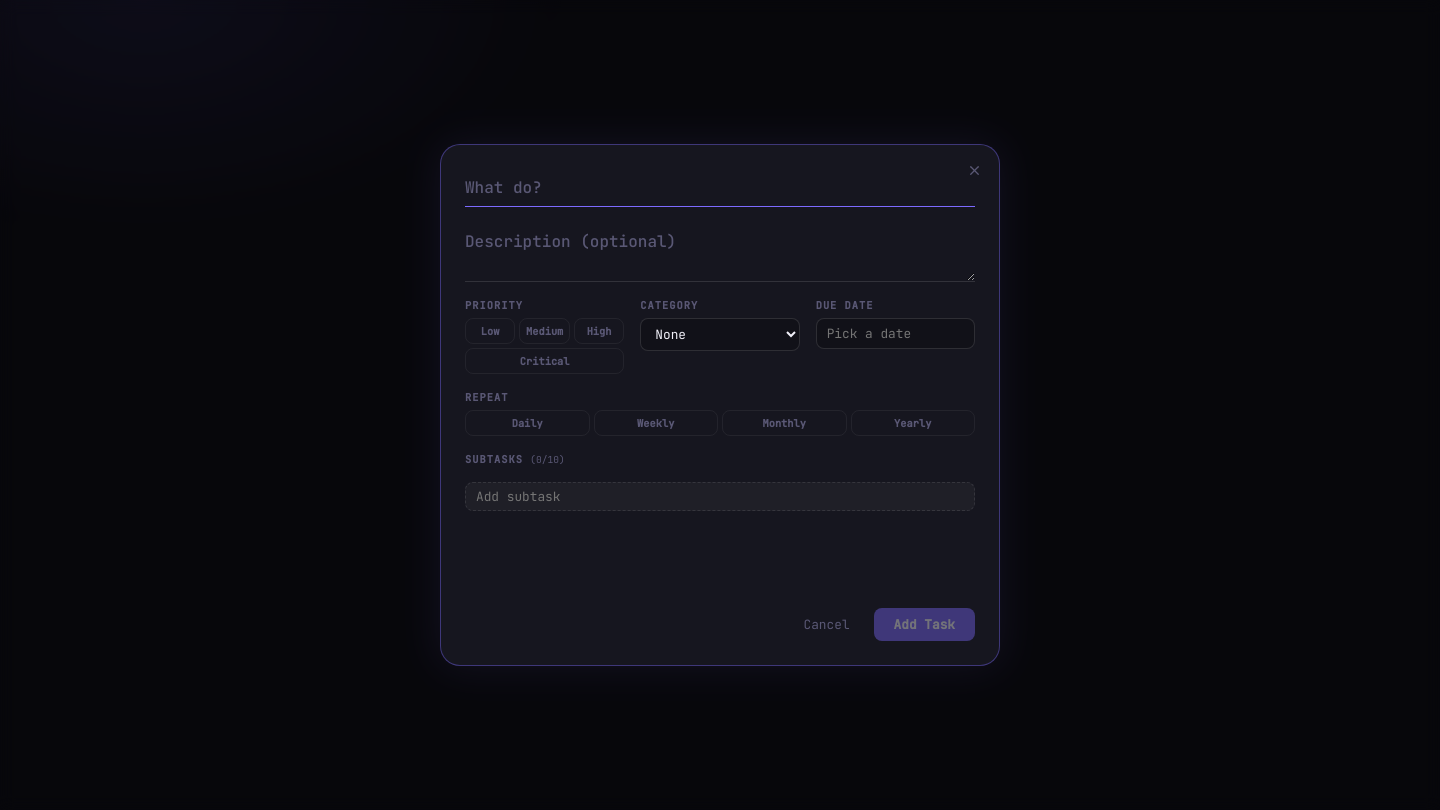
Test: AddTask › shows limit error from API
The width and height of the screenshot is (1440, 810).
In the field with placeholder "What do?": (720, 188) [465,169,975,207], type "X"
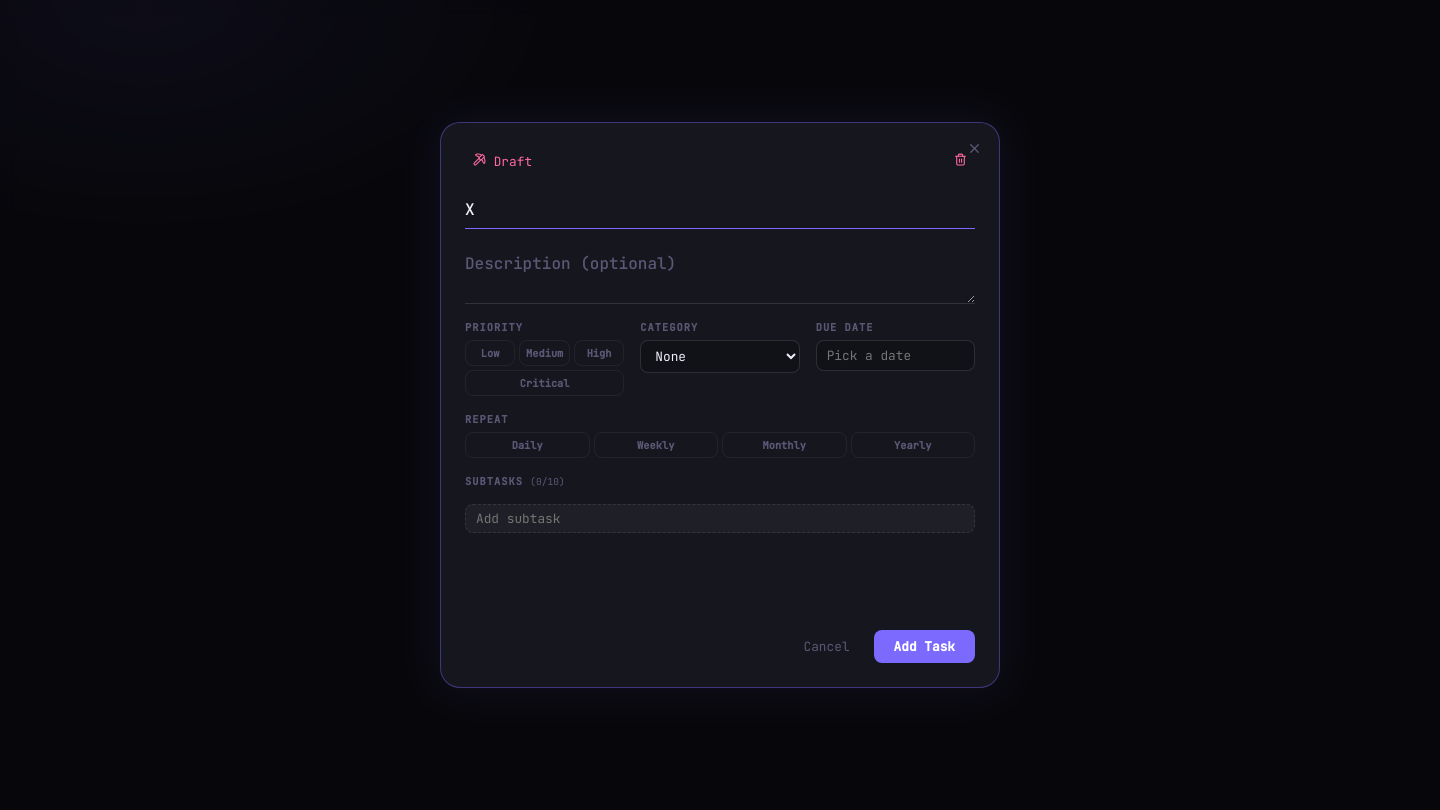
Click the button "Add Task": (924, 646) [874,630,975,663]
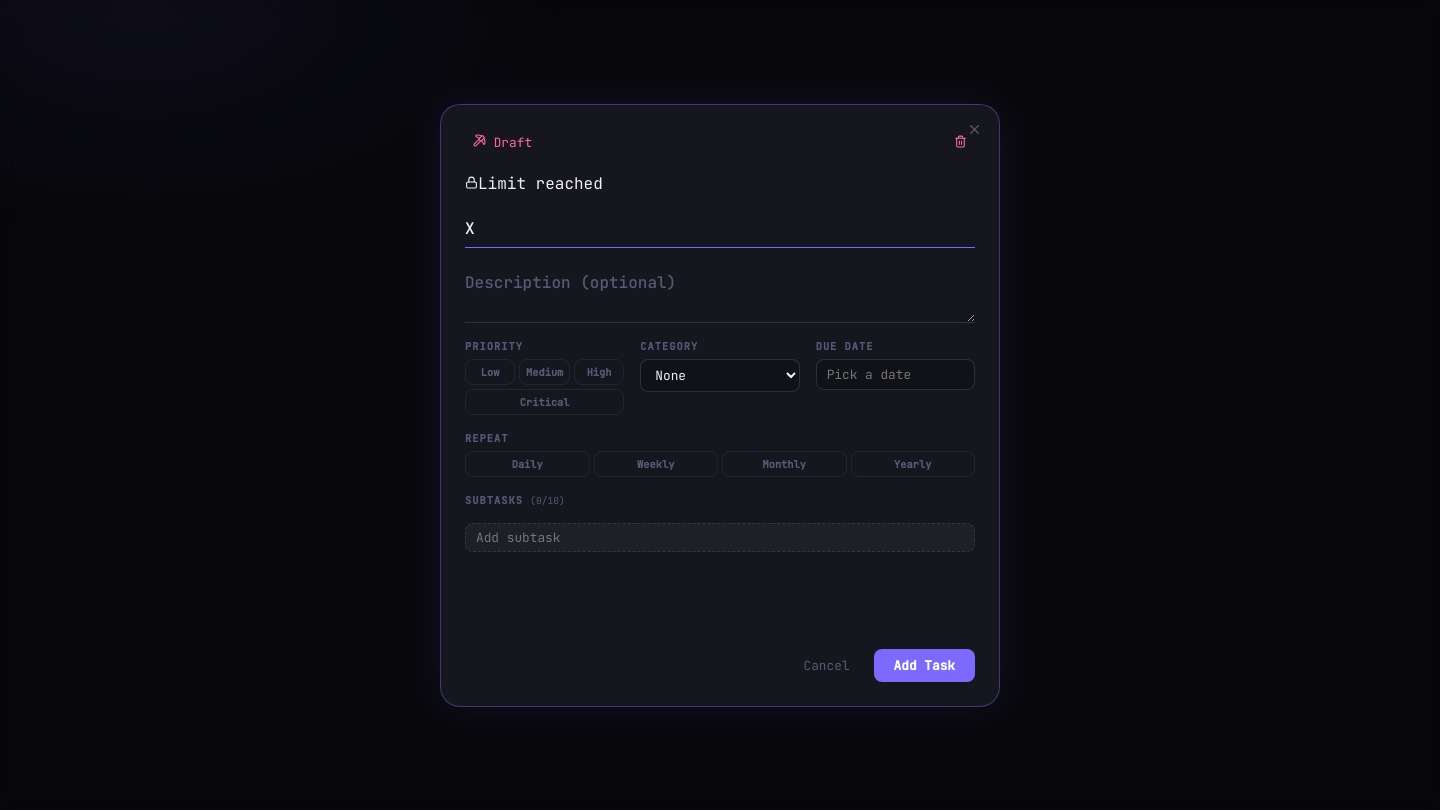
Expected: the text "Limit reached" is shown, [478,172,603,194]
